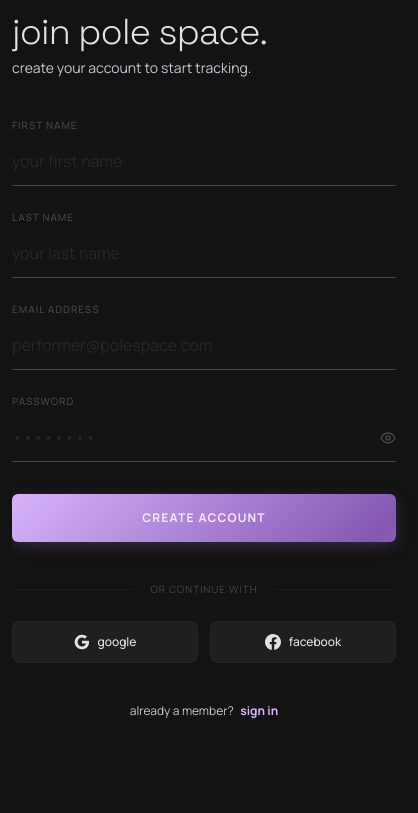
Test case: SignupForm › displays server error returned from signupAction
The width and height of the screenshot is (418, 813).
In the field labelled "first name": (204, 162) left=12, top=137, right=396, bottom=186, type "Alice"
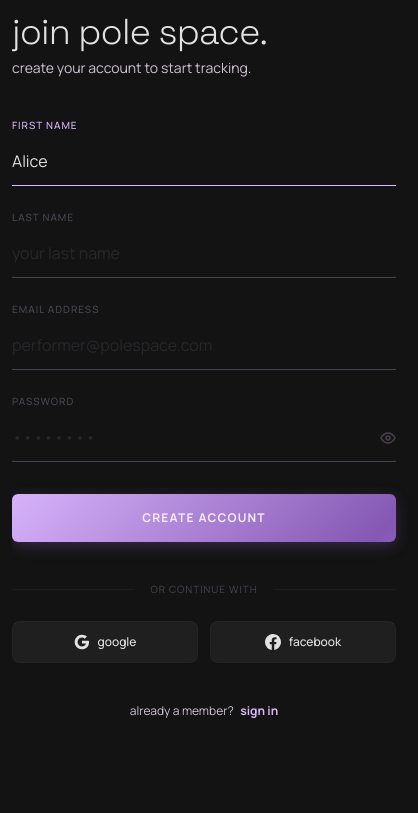
In the field labelled "last name": (204, 254) left=12, top=229, right=396, bottom=278, type "Smith"
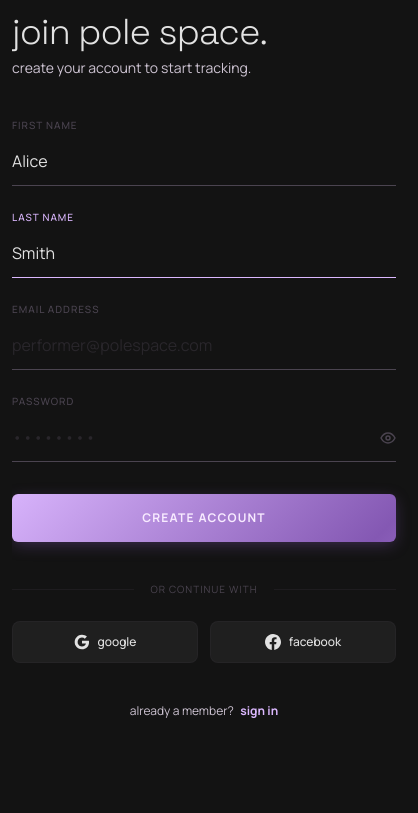
In the field labelled "email address": (204, 346) left=12, top=321, right=396, bottom=370, type "alice@example.com"
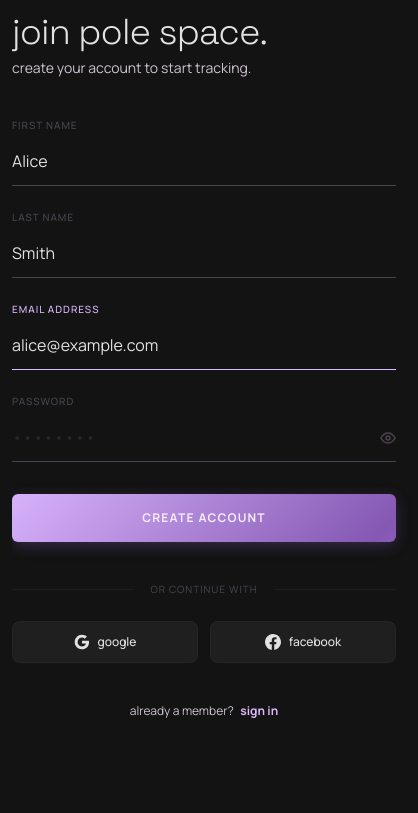
In the password field with placeholder "••••••••": (204, 438) left=12, top=413, right=396, bottom=462, type "Password1!"
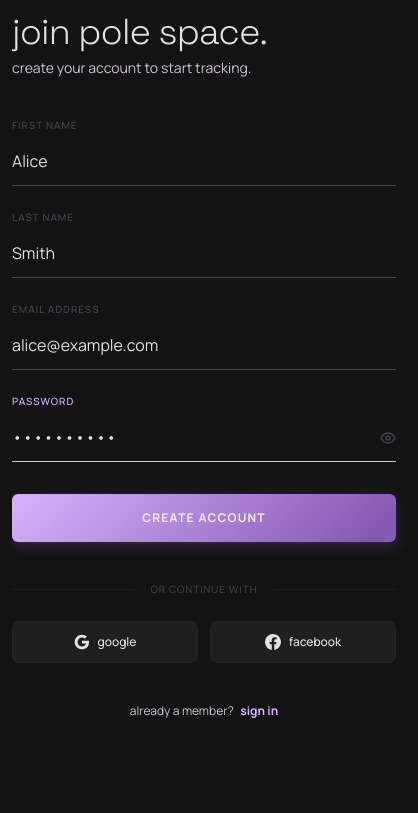
Click the button "create account": (204, 518) left=12, top=494, right=396, bottom=542
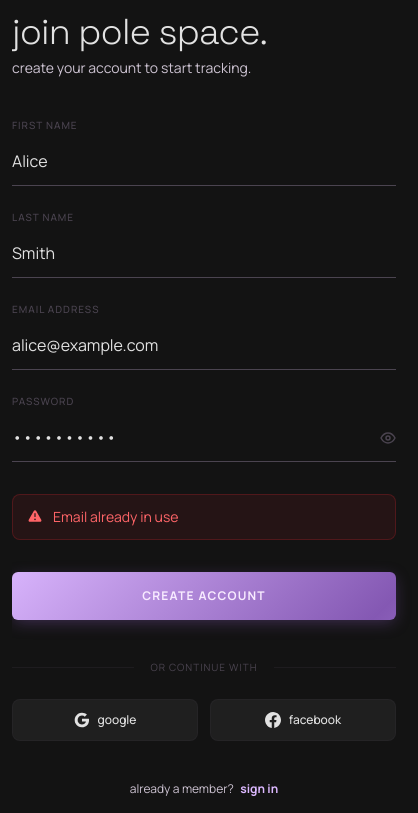
Result: the text "Email already in use" is shown at left=12, top=494, right=396, bottom=540
